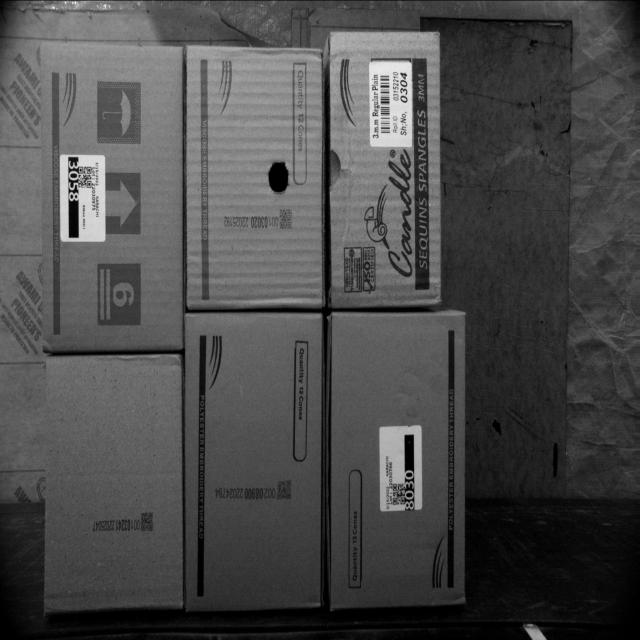cardboxes: (39, 41, 183, 350), (186, 315, 326, 615), (328, 312, 467, 609), (185, 47, 328, 309), (44, 354, 180, 613), (328, 30, 443, 307)
